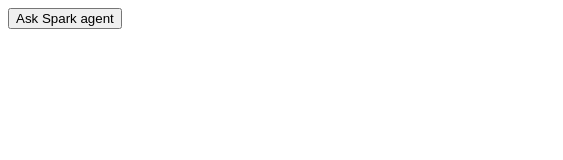
Ask more › is not offered when the answer is {"status":"unchecked"}
The width and height of the screenshot is (563, 160).
Click the button "Ask Spark agent": coordinates (65, 18) [8,8,122,29]
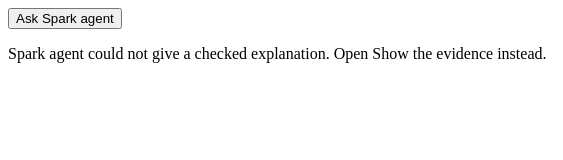
Check: the text "Spark agent could not give a checked explanation. Open Show the evidence instead." is shown, box [8,45,546,62]
